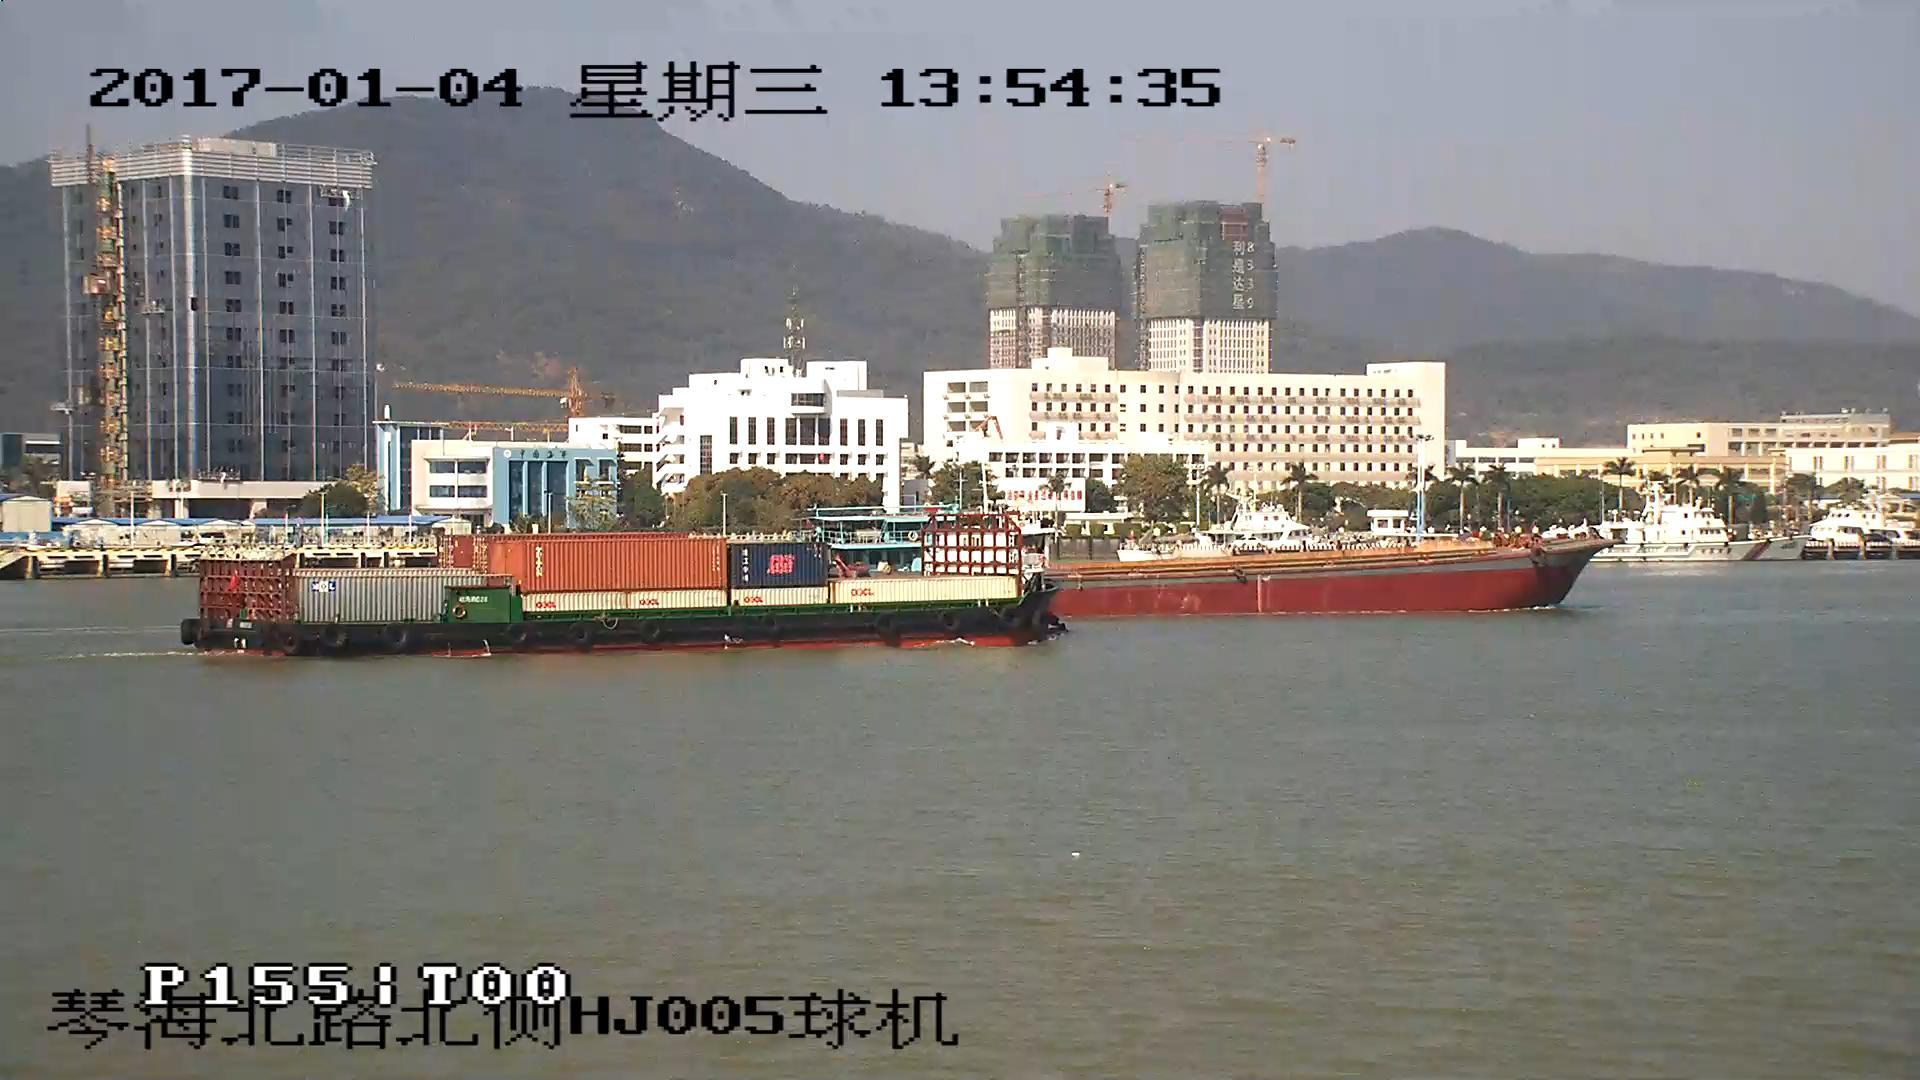Ship: (183, 516, 1060, 658), (1060, 541, 1613, 616)
